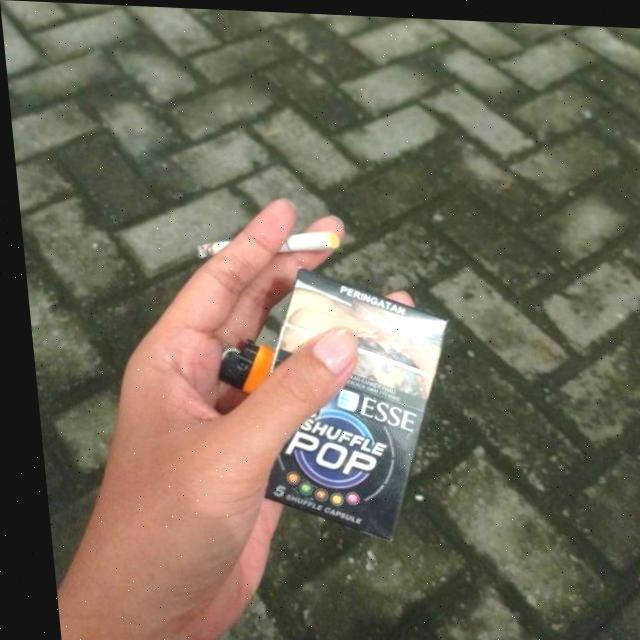cigarette: (191, 224, 338, 260)
